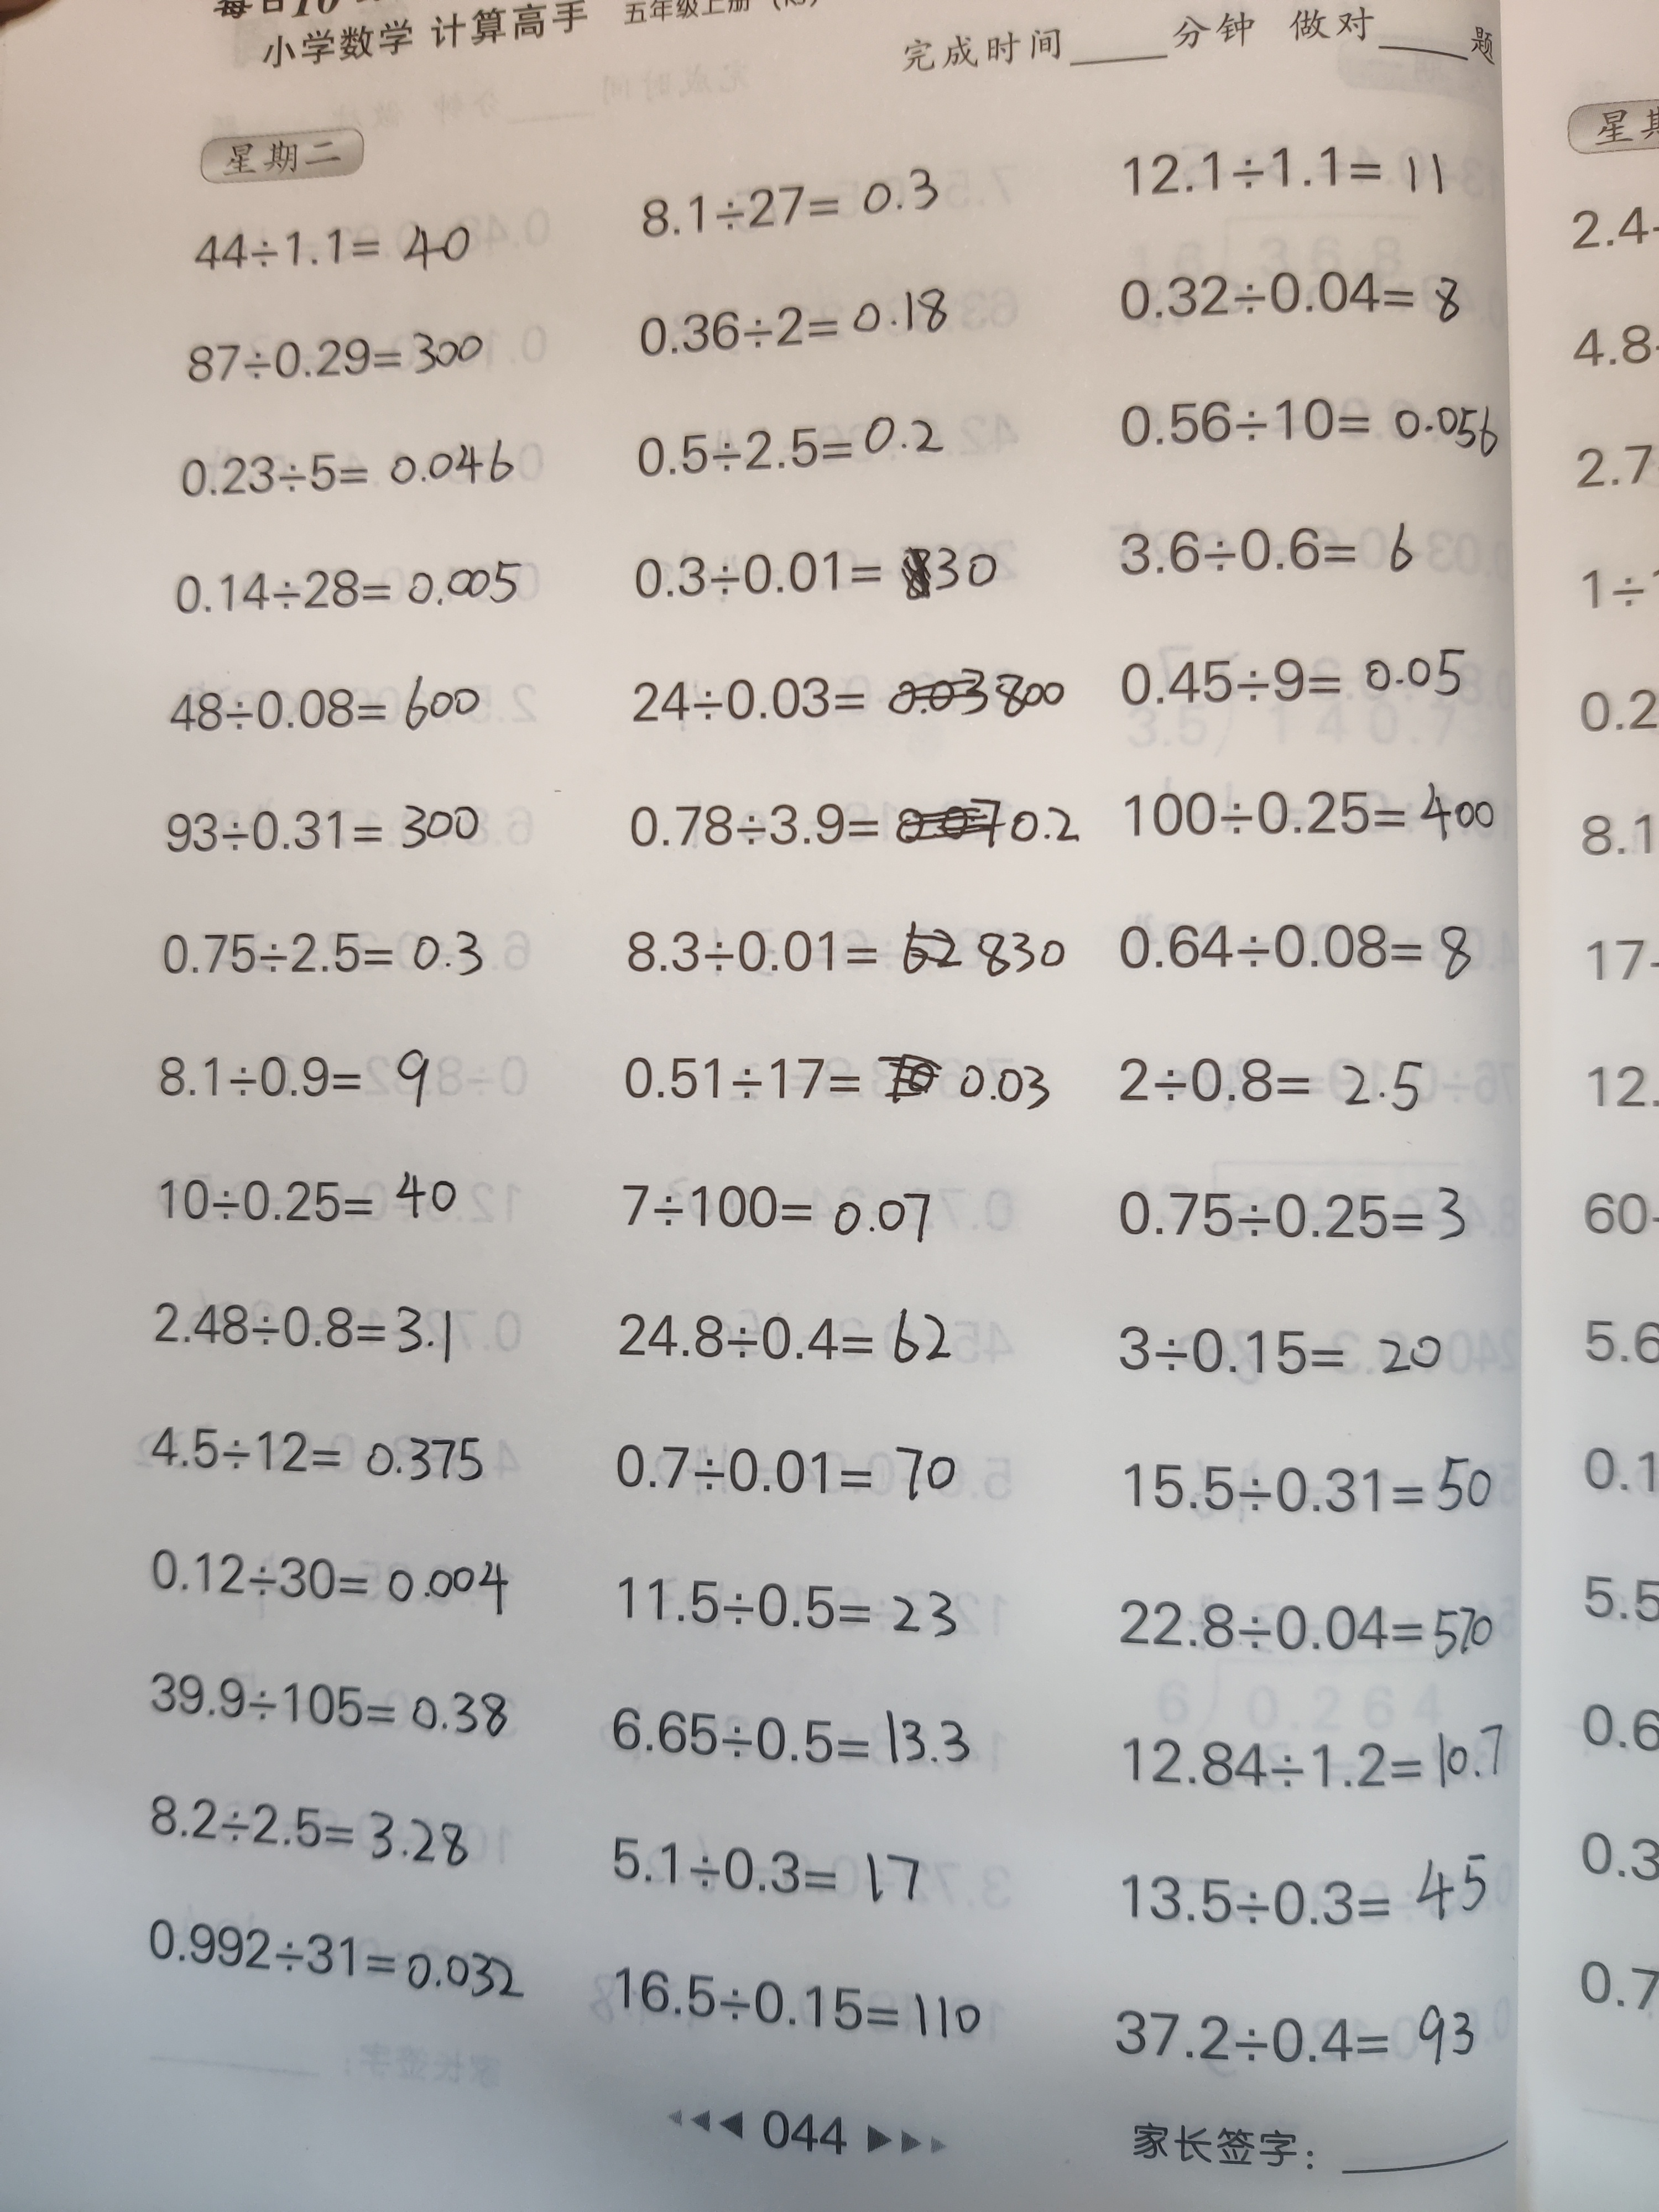equation: (131, 1902, 540, 2022), (1086, 1146, 1481, 1270), (1105, 1832, 1509, 1946), (1101, 1980, 1492, 2090), (124, 1649, 521, 1756), (605, 1951, 995, 2055), (1114, 374, 1504, 475), (612, 1808, 934, 1930), (610, 1557, 978, 1662), (1101, 1298, 1466, 1402), (605, 1686, 978, 1784), (1107, 1719, 1514, 1808), (132, 1538, 525, 1630), (1112, 1440, 1509, 1531), (606, 1163, 962, 1264), (615, 1421, 971, 1522), (1117, 1578, 1502, 1670), (1094, 254, 1467, 348), (138, 1150, 472, 1252), (1114, 770, 1509, 855), (610, 397, 953, 495), (117, 1409, 486, 1498), (136, 909, 512, 996), (1114, 118, 1455, 214), (1101, 914, 1492, 998), (1098, 639, 1478, 725), (1080, 512, 1441, 599), (129, 1789, 477, 1878), (173, 425, 523, 512), (136, 1029, 451, 1125), (160, 662, 491, 752), (606, 1296, 962, 1379), (166, 315, 505, 402), (1093, 1036, 1432, 1123), (157, 554, 535, 631), (141, 1287, 465, 1376), (622, 279, 962, 362), (619, 157, 948, 240), (148, 798, 491, 873), (173, 221, 490, 284)
